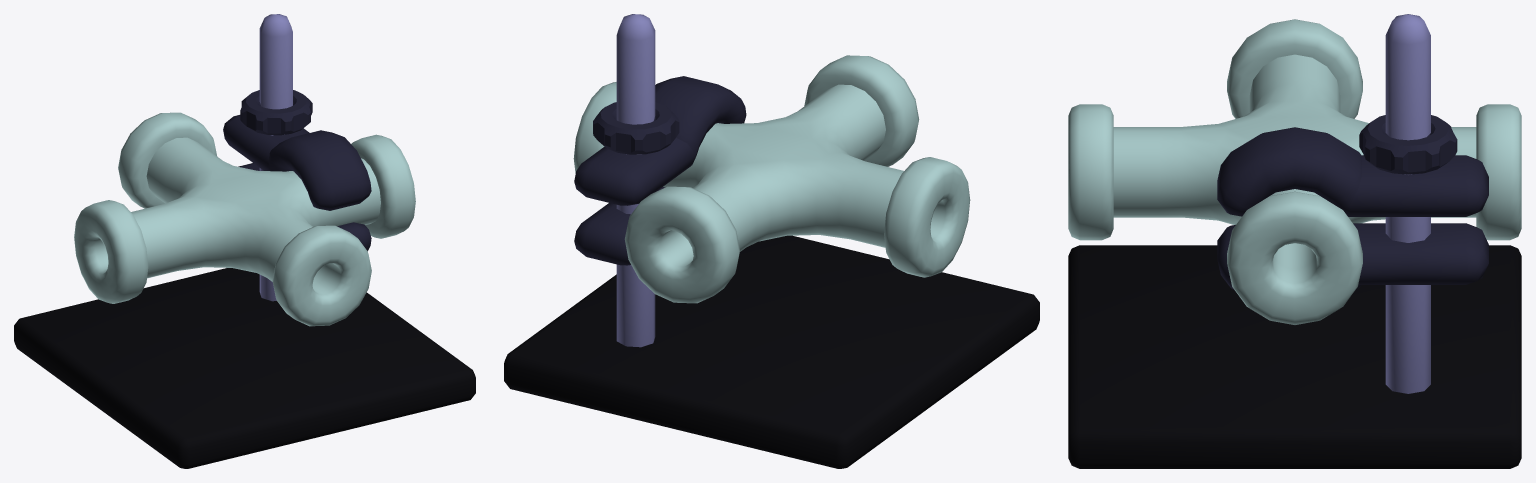
Rendered from LastLuna_Model_Station_Pipe_Quad.fbx.
The picture shows the model from 3 angles, left to right: view 1: azimuth 30°, elevation 25°; view 2: azimuth 150°, elevation 25°; view 3: azimuth 270°, elevation 25°; orthographic projection. The views are drawn at different scales.
Visible parts, largest first — view 1: Stand_Base_Small001, Pipe_Quad001, Pipe_Arm_Clamp001, Stand_Pole_Small001, Pipe_Arm_Clamp_Handle001; view 2: Stand_Base_Small001, Pipe_Quad001, Pipe_Arm_Clamp001, Stand_Pole_Small001, Pipe_Arm_Clamp_Handle001; view 3: Stand_Base_Small001, Pipe_Quad001, Pipe_Arm_Clamp001, Stand_Pole_Small001, Pipe_Arm_Clamp_Handle001.
Part boxes in pixels (x1=…): Stand_Base_Small001: x1=14, y1=268, x2=475, y2=468; Pipe_Quad001: x1=74, y1=112, x2=415, y2=326; Pipe_Arm_Clamp001: x1=223, y1=115, x2=371, y2=250; Stand_Pole_Small001: x1=259, y1=14, x2=292, y2=301; Pipe_Arm_Clamp_Handle001: x1=240, y1=90, x2=312, y2=135; Stand_Base_Small001: x1=504, y1=235, x2=1039, y2=468; Pipe_Quad001: x1=573, y1=55, x2=970, y2=303; Pipe_Arm_Clamp001: x1=574, y1=76, x2=746, y2=265; Stand_Pole_Small001: x1=616, y1=14, x2=655, y2=347; Pipe_Arm_Clamp_Handle001: x1=593, y1=102, x2=679, y2=154; Stand_Base_Small001: x1=1068, y1=245, x2=1521, y2=468; Pipe_Quad001: x1=1068, y1=19, x2=1521, y2=324; Pipe_Arm_Clamp001: x1=1217, y1=127, x2=1488, y2=290; Stand_Pole_Small001: x1=1385, y1=14, x2=1430, y2=393; Pipe_Arm_Clamp_Handle001: x1=1359, y1=115, x2=1457, y2=174.
Bounding box in the file's own units: 100 × 100 × 100.
